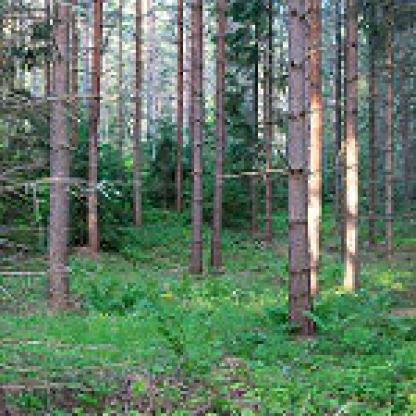trunk: (41, 0, 75, 308), (280, 3, 311, 327), (305, 0, 328, 289), (341, 0, 361, 291), (208, 3, 230, 266), (84, 3, 106, 258), (186, 3, 205, 277), (130, 2, 144, 224), (261, 25, 277, 216), (172, 0, 186, 214), (386, 31, 396, 238)
